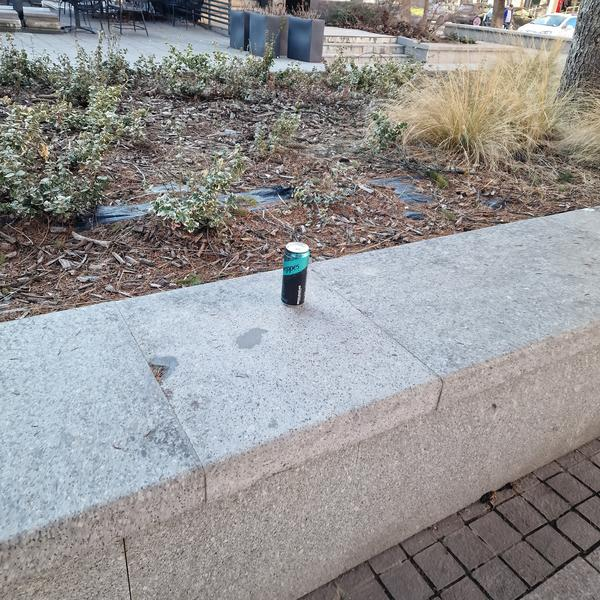can: (278, 240, 311, 310)
